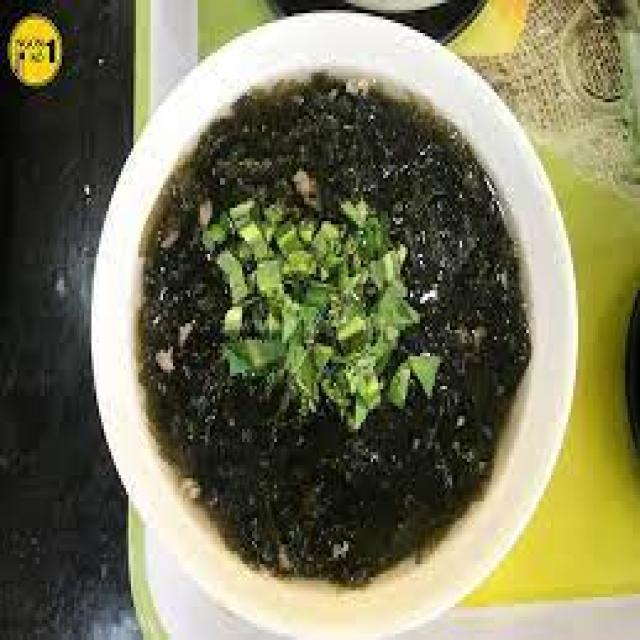canh rong bien: (138, 76, 526, 581)
